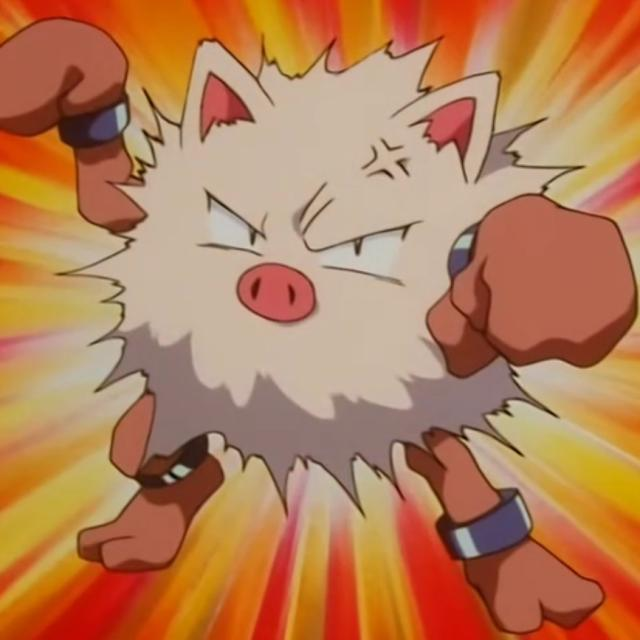Primeape: (56, 21, 591, 580)
